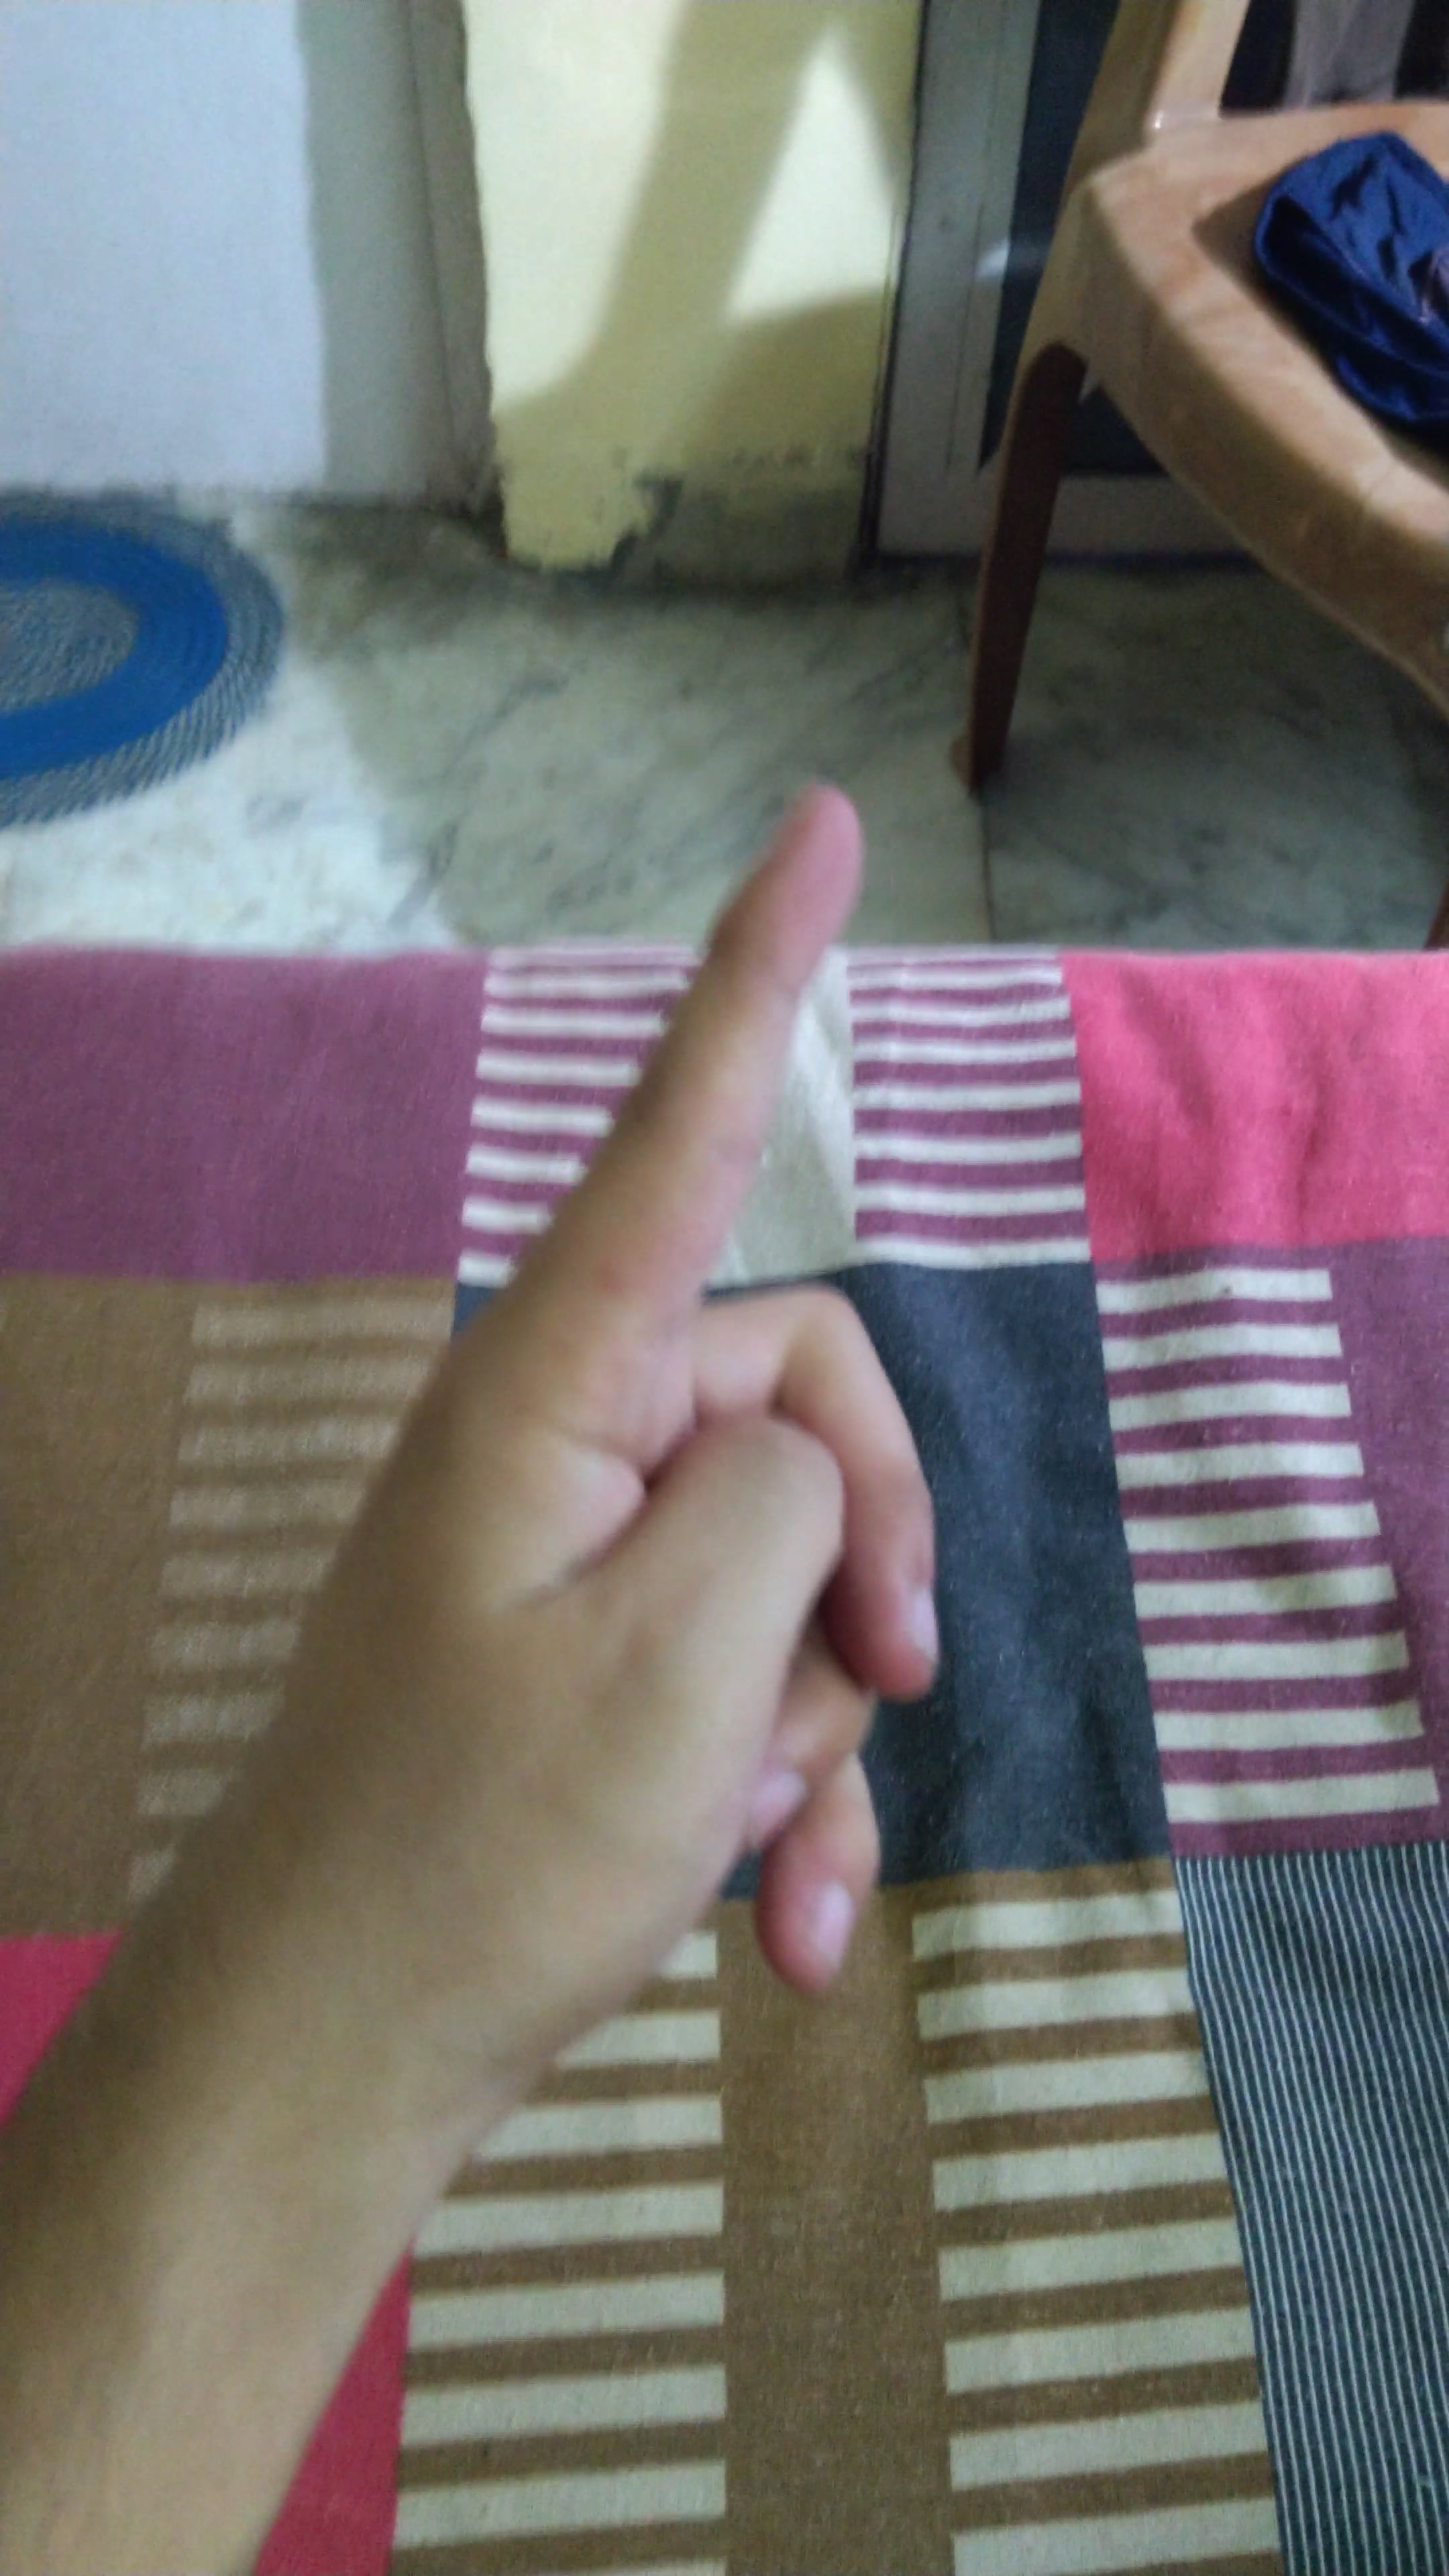hand: (241, 722, 1039, 2109)
